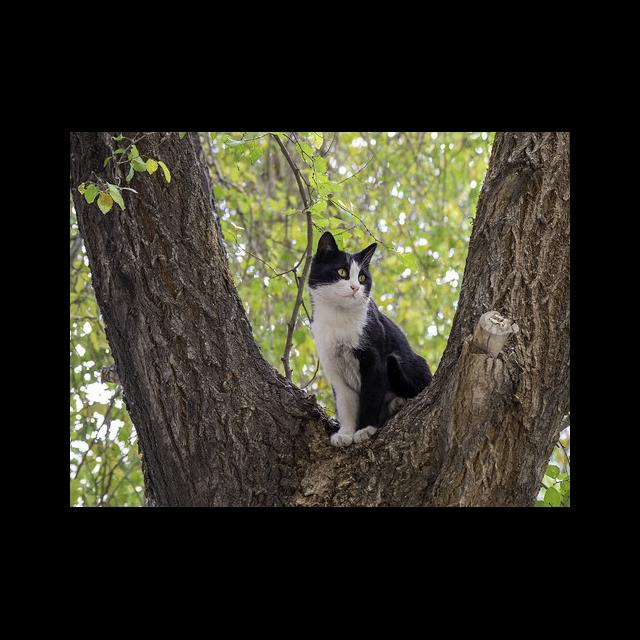animals: (307, 232, 433, 446)
